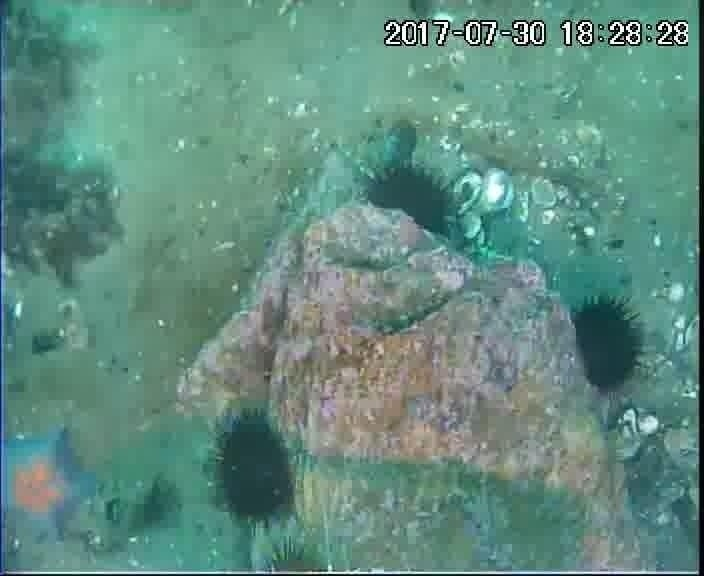echinus: (208, 412, 299, 527), (566, 294, 648, 396), (360, 159, 459, 243), (247, 534, 336, 571)
starfish: (1, 425, 102, 545)
